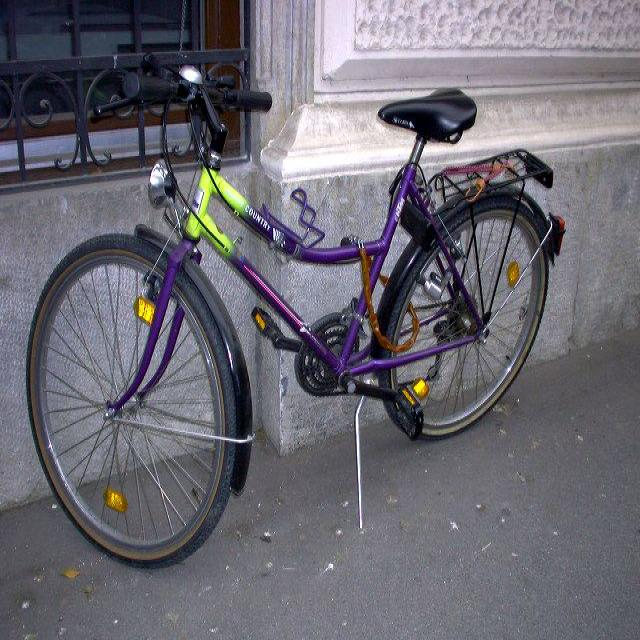bicycle: (25, 54, 565, 566)
